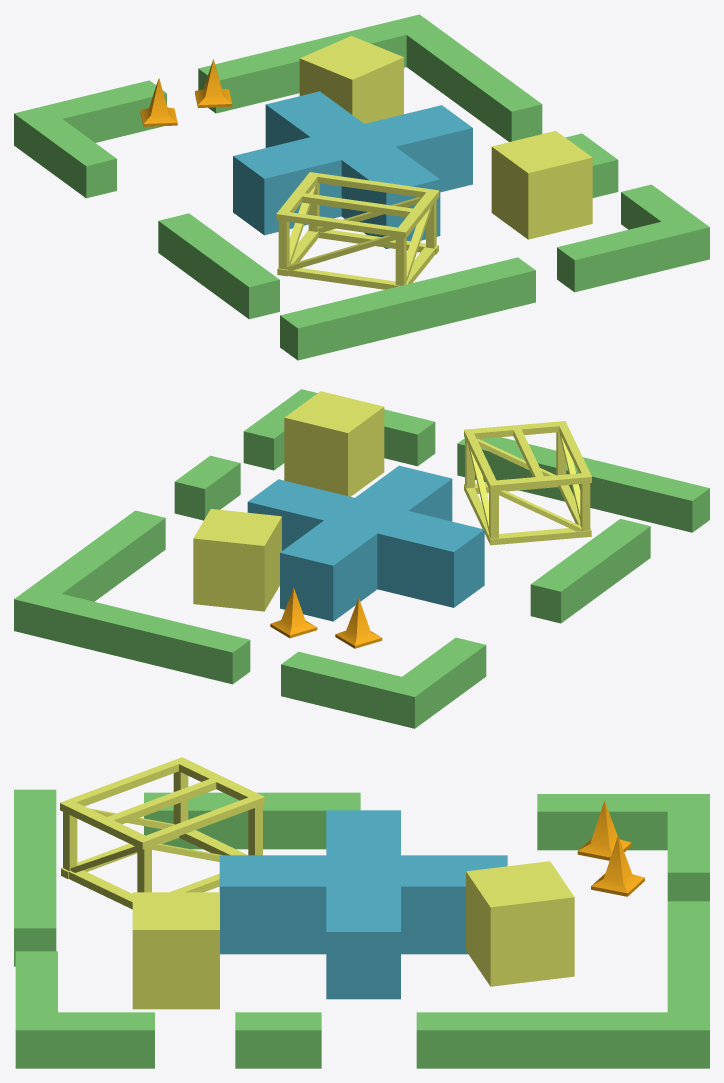
The model's file is BMark2.fbx.
3 renders of one model, top to bottom at view 1: azimuth 30°, elevation 25°; view 2: azimuth 150°, elevation 25°; view 3: azimuth 270°, elevation 25°, orthographic. The views are drawn at different scales.
Visible parts, largest first — view 1: BMark2; view 2: BMark2; view 3: BMark2.
Boxes of the visible parts, x1,y1,x2,y2 form: BMark2: (14, 14, 709, 360); BMark2: (14, 389, 709, 728); BMark2: (14, 757, 709, 1068).
Size of the model in its own units: 171 by 32.91 by 209.
